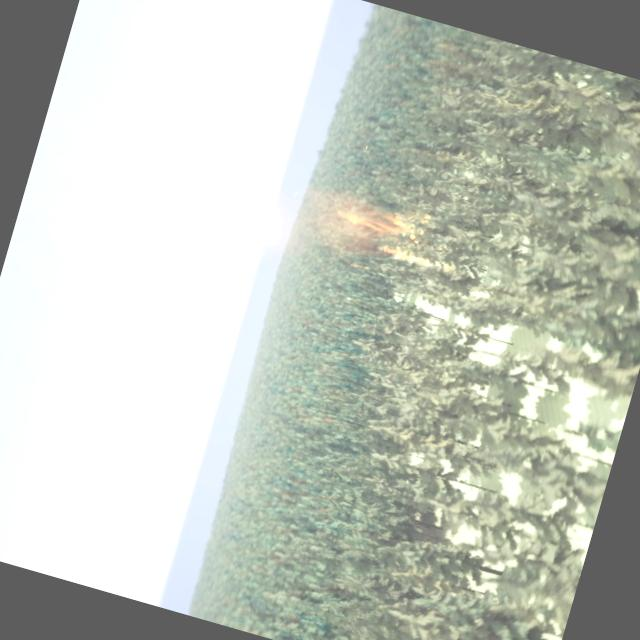fire: (334, 190, 431, 245)
smoke: (289, 178, 388, 254)
